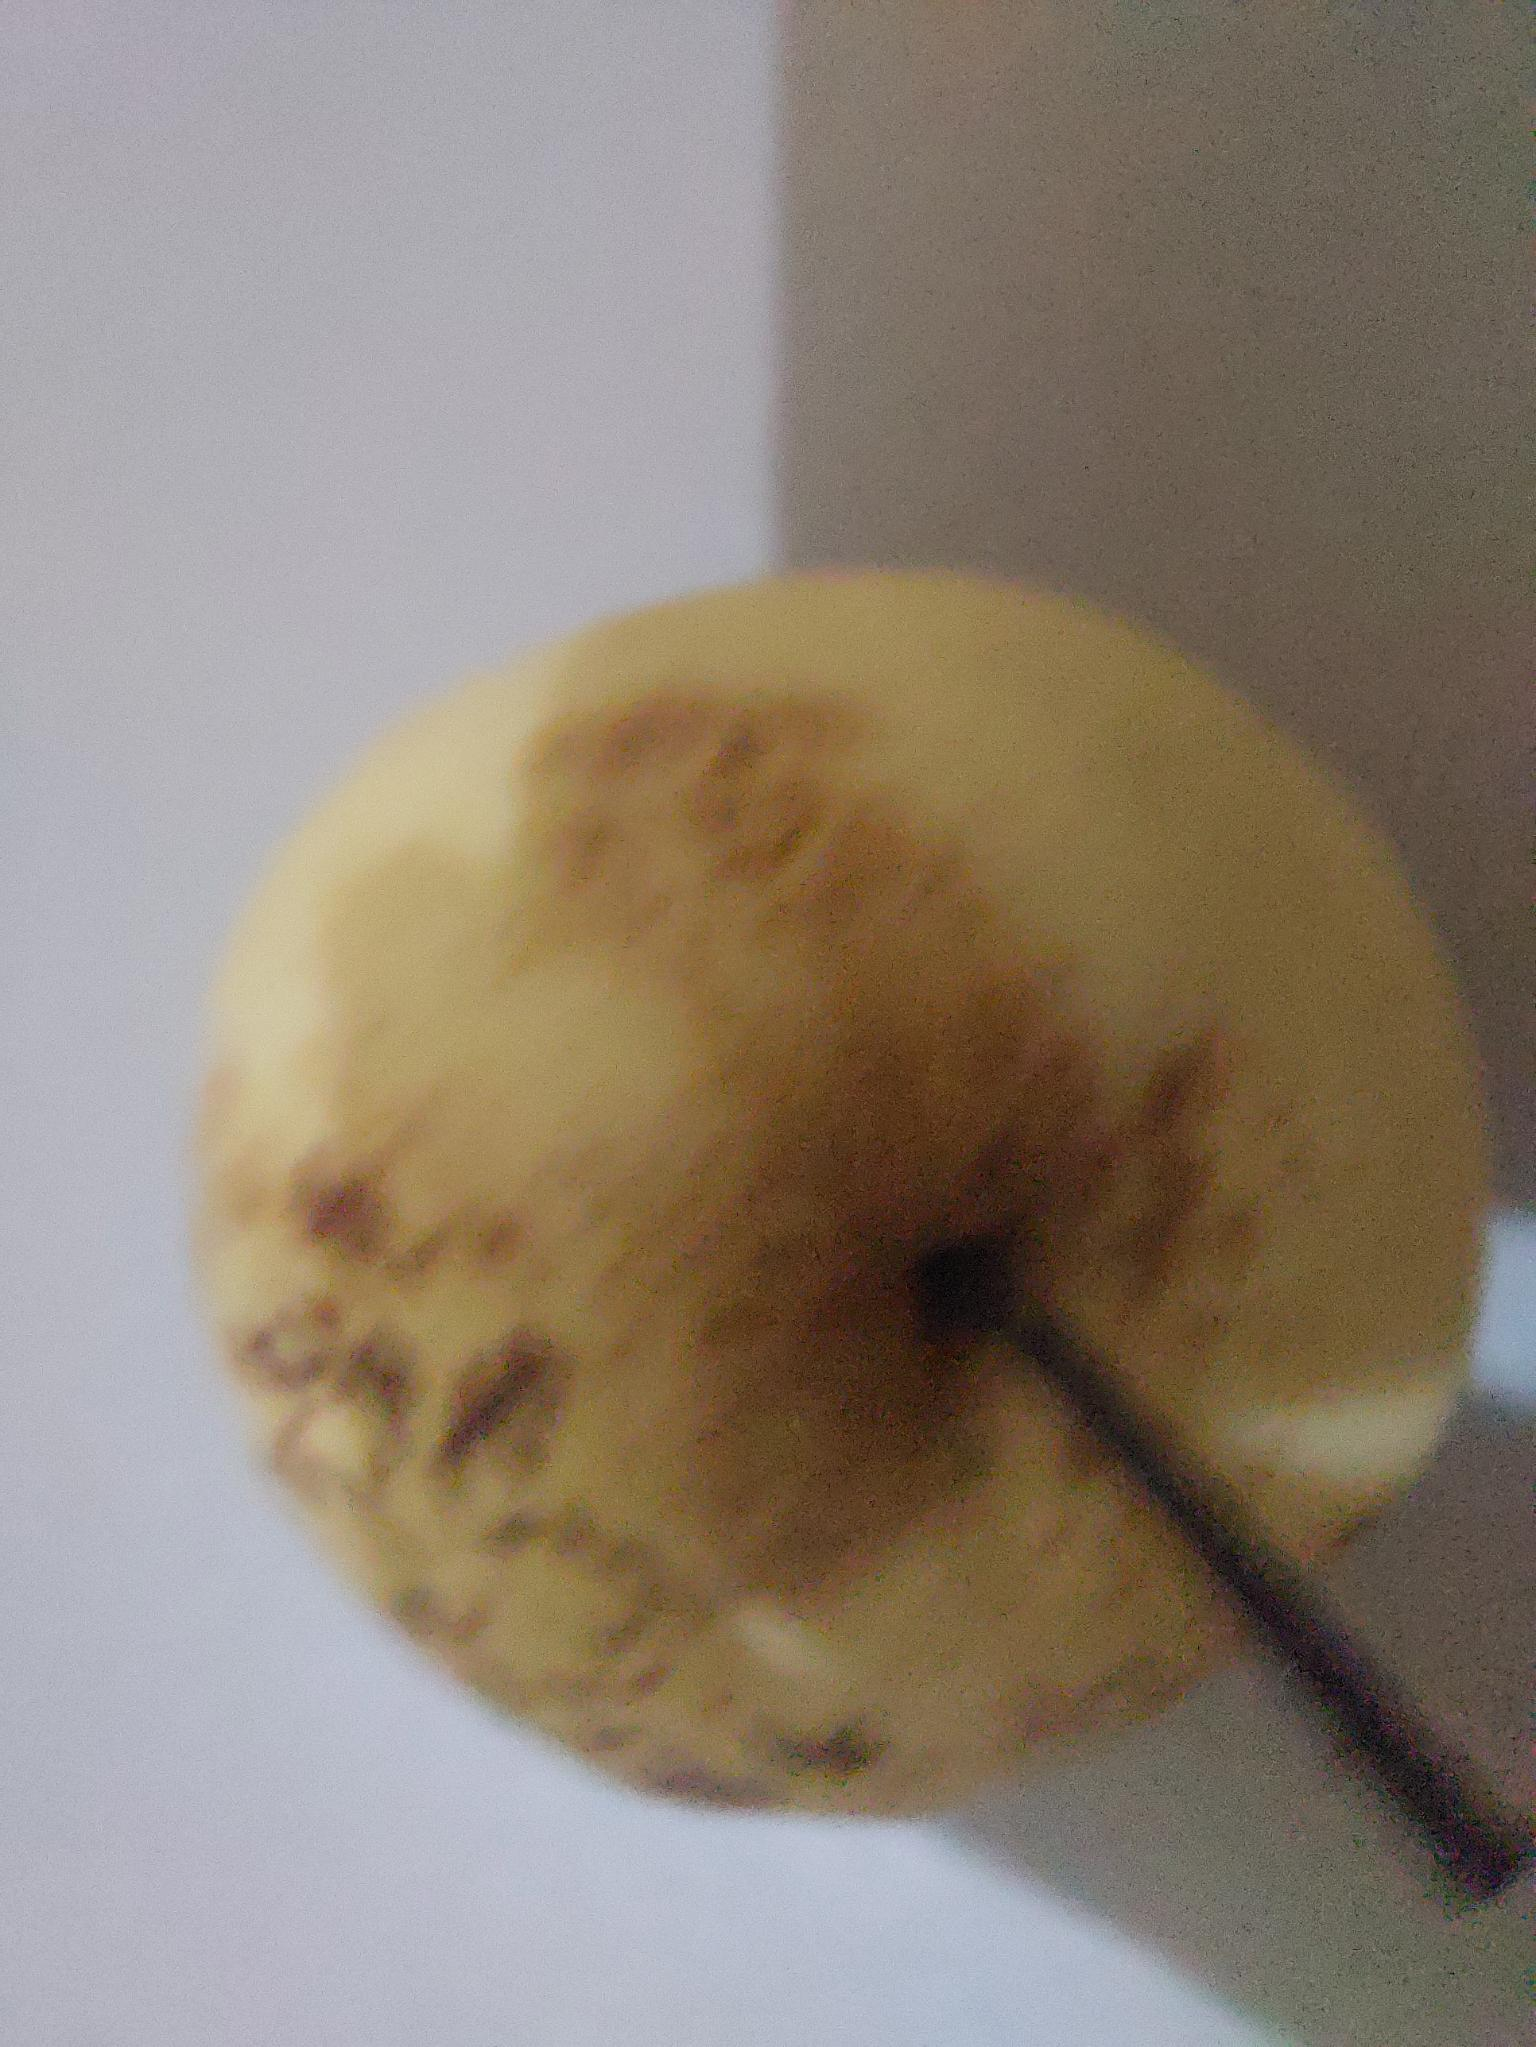Bad Pear: (195, 573, 1488, 1807)
